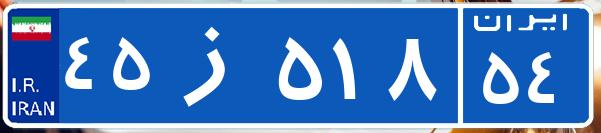1: (330, 28, 385, 110)
4: (57, 26, 110, 107), (525, 38, 570, 115)
5: (273, 28, 330, 110), (475, 38, 525, 113), (110, 28, 158, 105)
8: (385, 28, 445, 110)
ز: (158, 15, 273, 115)
